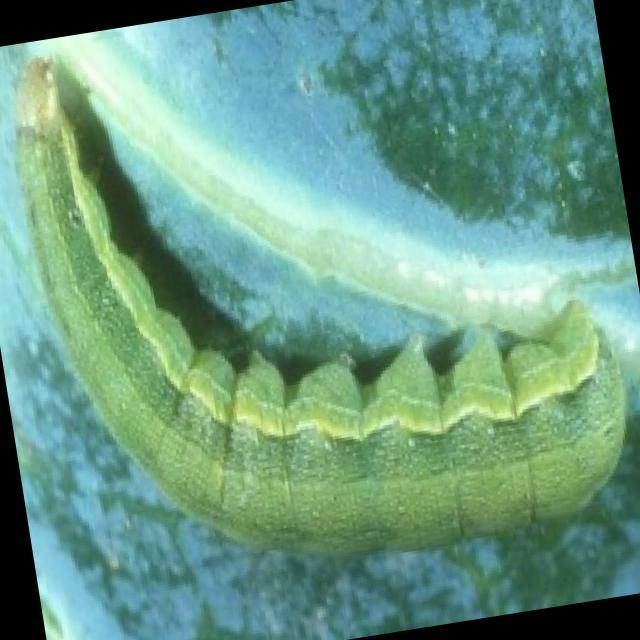Plaga: (1, 1, 640, 626)
